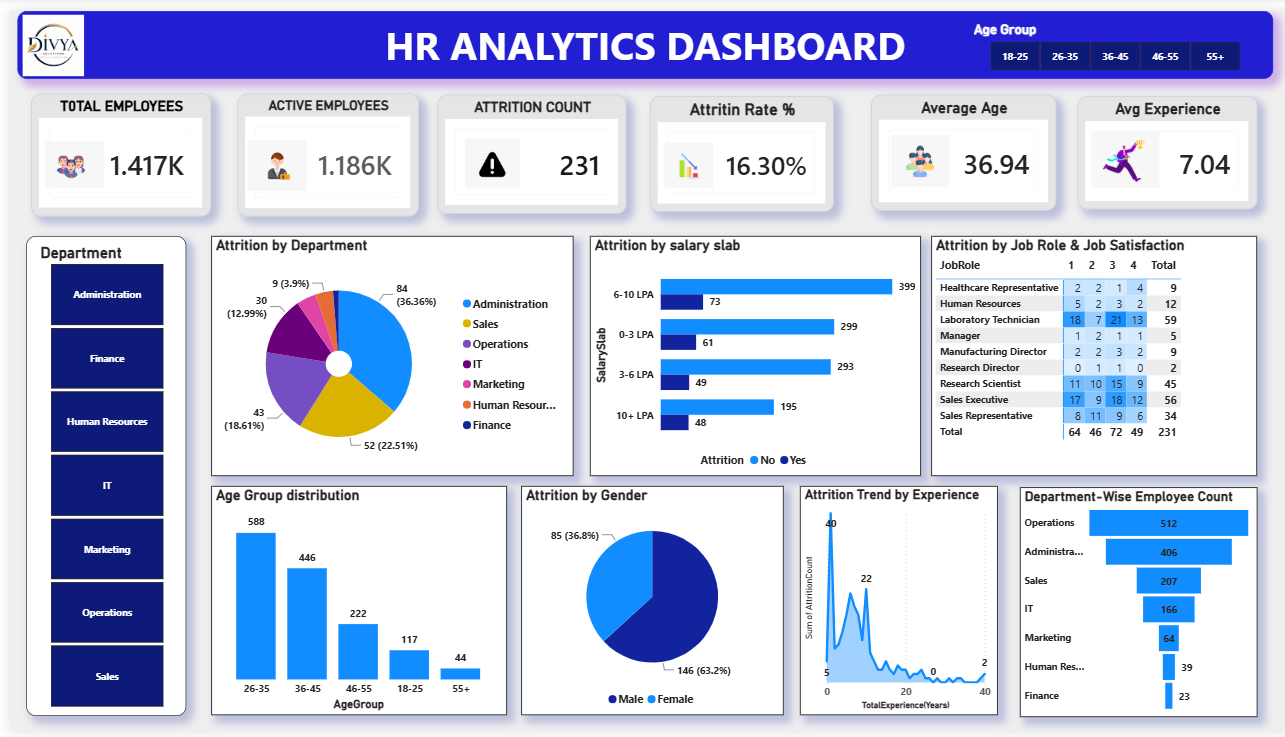

Layout of this report page (visuals, bound fields, positions):
{"tool":"powerbi","page":{"name":"Page 1","canvas":[1600,900],"ordinal":0},"visuals":[{"type":"textbox","box":[10.1,0,1570,84.4],"z":0},{"type":"image","box":[9.6,4.1,89.2,76.8],"z":1000},{"type":"cardVisual","title":"T0TAL EMPLOYEES","fields":{"Data":["CountNonNull(HR_Analytics-4.EmployeeCount)"]},"box":[27,103,224.5,153.6],"z":2000},{"type":"cardVisual","title":"ATTRITION COUNT ","fields":{"Data":["CountNonNull(HR_Analytics-4.EmployeeCount)"]},"box":[535.1,104.7,236.3,148.6],"z":3000},{"type":"cardVisual","title":"Average Age","fields":{"Data":["Avg(HR_Analytics-4.Age)"]},"box":[1077,104.7,231.3,145.2],"z":4000},{"type":"cardVisual","title":"Avg Experience","fields":{"Data":["Avg(HR_Analytics-4.YearsatCompany)"]},"box":[1333.6,106.4,224.5,141.8],"z":5000},{"type":"cardVisual","title":"ACTIVE EMPLOYEES","fields":{"Data":["CountNonNull(HR_Analytics-4.EmpID)"]},"box":[283.6,103,226.2,153.6],"z":6000},{"type":"cardVisual","title":"Attritin Rate %","fields":{"Data":["HR_Analytics-4.Attrition Rate %"]},"box":[800.2,106.4,229.6,145.2],"z":7000},{"type":"image","box":[42.2,162.1,77.7,59.1],"z":8000},{"type":"image","box":[297.1,160.4,74.3,64.1],"z":9000},{"type":"image","box":[799.3,163.3,96.3,56.7],"z":10000},{"type":"image","box":[1099,155.3,79.3,65.8],"z":11000},{"type":"image","box":[567.2,158.7,70.9,62.5],"z":12000},{"type":"image","box":[1281.3,150.2,226.2,70.9],"z":13000},{"type":"donutChart","title":"Attrition by Department","fields":{"Category":["HR_Analytics-4.Department"],"Y":["Sum(HR_Analytics-4.AttritionCount)"]},"box":[250.9,281.1,452.8,300],"z":14000},{"type":"clusteredBarChart","title":"Attrition by salary slab","fields":{"Category":["HR_Analytics-4.SalarySlab"],"Y":["CountNonNull(HR_Analytics-4.EmpID)"],"Series":["HR_Analytics-4.Attrition"]},"box":[724.5,281.1,413.2,300],"z":15000},{"type":"pivotTable","title":"Attrition by Job Role &  Job Satisfaction","fields":{"Rows":["HR_Analytics-4.JobRole"],"Values":["Sum(HR_Analytics-4.AttritionCount)"],"Columns":["HR_Analytics-4.JobSatisfaction"]},"box":[1150.9,281.1,407.5,300],"z":16000},{"type":"columnChart","title":"Age Group distribution","fields":{"Category":["HR_Analytics-4.AgeGroup"],"Y":["Sum(HR_Analytics-4.EmployeeCount)"]},"box":[250.9,594.3,369.8,286.8],"z":17000},{"type":"pieChart","title":"Attrition by Gender","fields":{"Category":["HR_Analytics-4.Gender"],"Y":["Sum(HR_Analytics-4.AttritionCount)"]},"box":[639.6,594.3,328.3,286.8],"z":18000},{"type":"areaChart","title":"Attrition Trend by Experience","fields":{"Category":["HR_Analytics-4.TotalExperience(Years)"],"Y":["Sum(HR_Analytics-4.AttritionCount)"]},"box":[986.8,594.3,247.2,286.8],"z":19000},{"type":"funnel","title":"Department-Wise Employee Count","fields":{"Category":["HR_Analytics-4.Department"],"Y":["CountNonNull(HR_Analytics-4.EmpID)"]},"box":[1262.3,595.1,296.7,286.9],"z":20000},{"type":"slicer","title":"De","fields":{"Values":["HR_Analytics-4.Department"]},"box":[20,281.1,200,600],"z":21000},{"type":"slicer","title":"Age Group","fields":{"Values":["HR_Analytics-4.AgeGroup"]},"box":[1200,12,361,68],"z":22000}]}

Visuals, with their boxes in screenshot pixels (x1, y1, x2, y2), scaled from the page's 1600x900 canvas onto the 1285x737 screenshot:
textbox: x1=8, y1=0, x2=1269, y2=69
image: x1=8, y1=3, x2=79, y2=66
"T0TAL EMPLOYEES" cardVisual: x1=22, y1=84, x2=202, y2=210
"ATTRITION COUNT " cardVisual: x1=430, y1=86, x2=620, y2=207
"Average Age" cardVisual: x1=865, y1=86, x2=1051, y2=205
"Avg Experience" cardVisual: x1=1071, y1=87, x2=1251, y2=203
"ACTIVE EMPLOYEES" cardVisual: x1=228, y1=84, x2=409, y2=210
"Attritin Rate %" cardVisual: x1=643, y1=87, x2=827, y2=206
image: x1=34, y1=133, x2=96, y2=181
image: x1=239, y1=131, x2=298, y2=184
image: x1=642, y1=134, x2=719, y2=180
image: x1=883, y1=127, x2=946, y2=181
image: x1=456, y1=130, x2=512, y2=181
image: x1=1029, y1=123, x2=1211, y2=181
"Attrition by Department" donutChart: x1=202, y1=230, x2=565, y2=476
"Attrition by salary slab" clusteredBarChart: x1=582, y1=230, x2=914, y2=476
"Attrition by Job Role &  Job Satisfaction" pivotTable: x1=924, y1=230, x2=1252, y2=476
"Age Group distribution" columnChart: x1=202, y1=487, x2=498, y2=722
"Attrition by Gender" pieChart: x1=514, y1=487, x2=777, y2=722
"Attrition Trend by Experience" areaChart: x1=793, y1=487, x2=991, y2=722
"Department-Wise Employee Count" funnel: x1=1014, y1=487, x2=1252, y2=722
"De" slicer: x1=16, y1=230, x2=177, y2=722
"Age Group" slicer: x1=964, y1=10, x2=1254, y2=66
